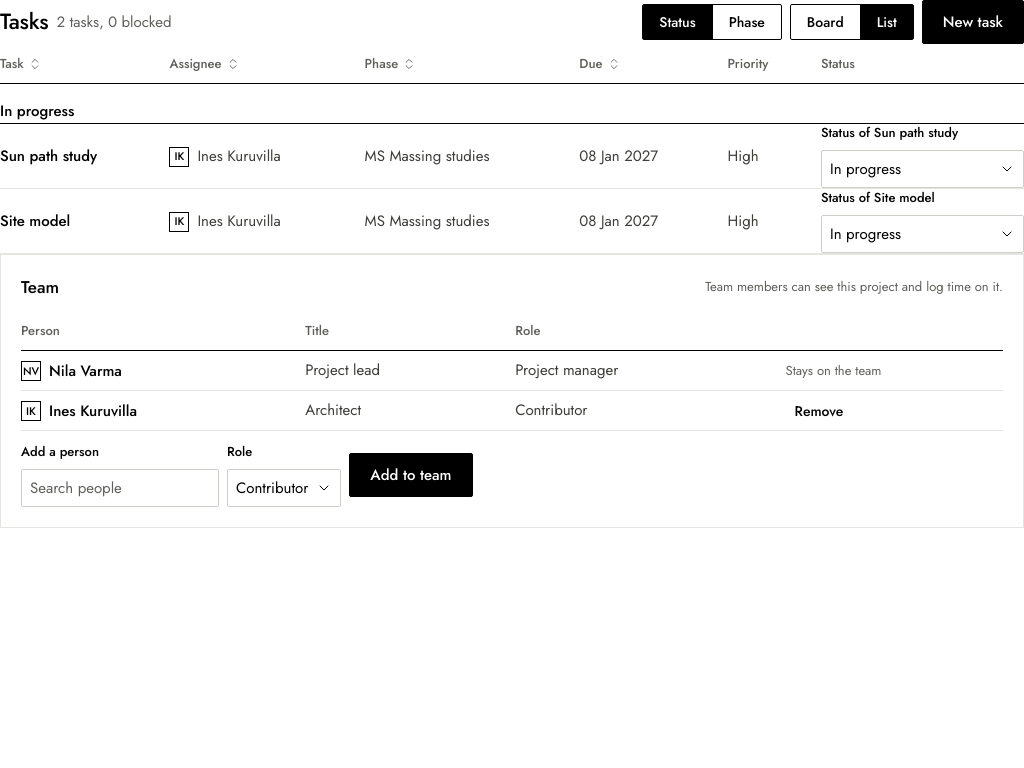
live task sheet, round 2 › shows followers, dates, hours over the estimate, sub-tasks, dependencies and time on the task
Expected: the text "2 tasks, 0 blocked" is shown, [56,11,172,33]
Expected: the text "North elevation" is not shown
Click the column heading "Sun path study".
click(79, 157)  # box [0,124,157,189]
(page scrolled)
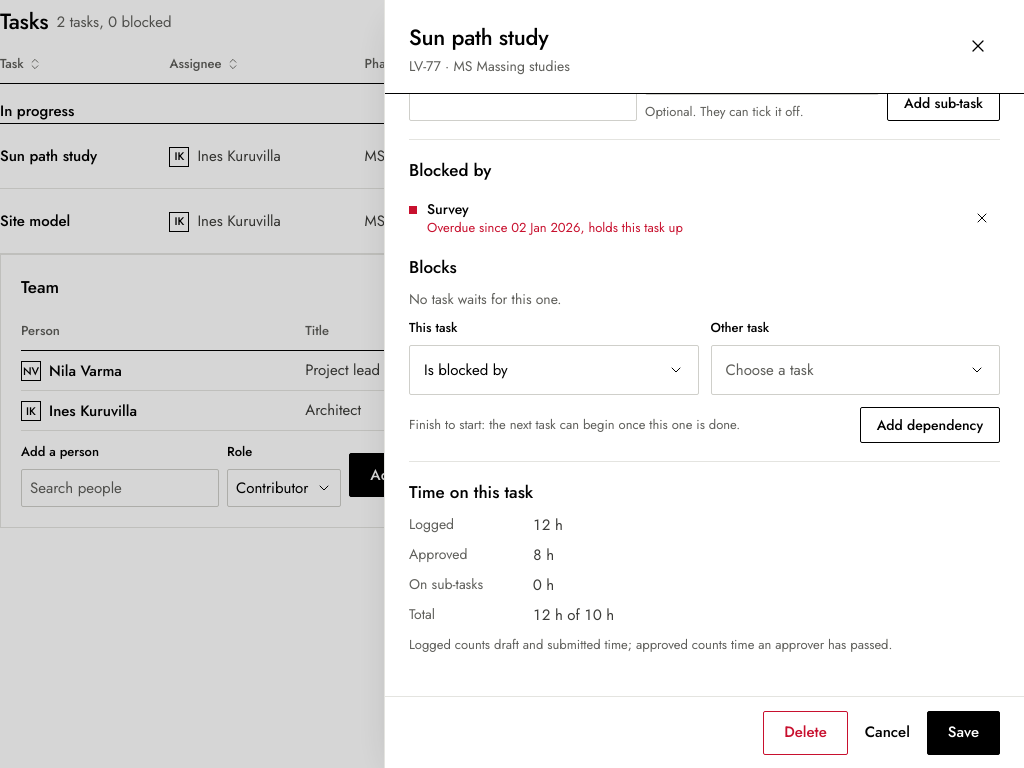
Now the text "Overdue since 02 Jan 2026, holds this task up" is shown, box [427,218,683,237]
Now the text "8 h" is shown, box [533,544,554,566]
